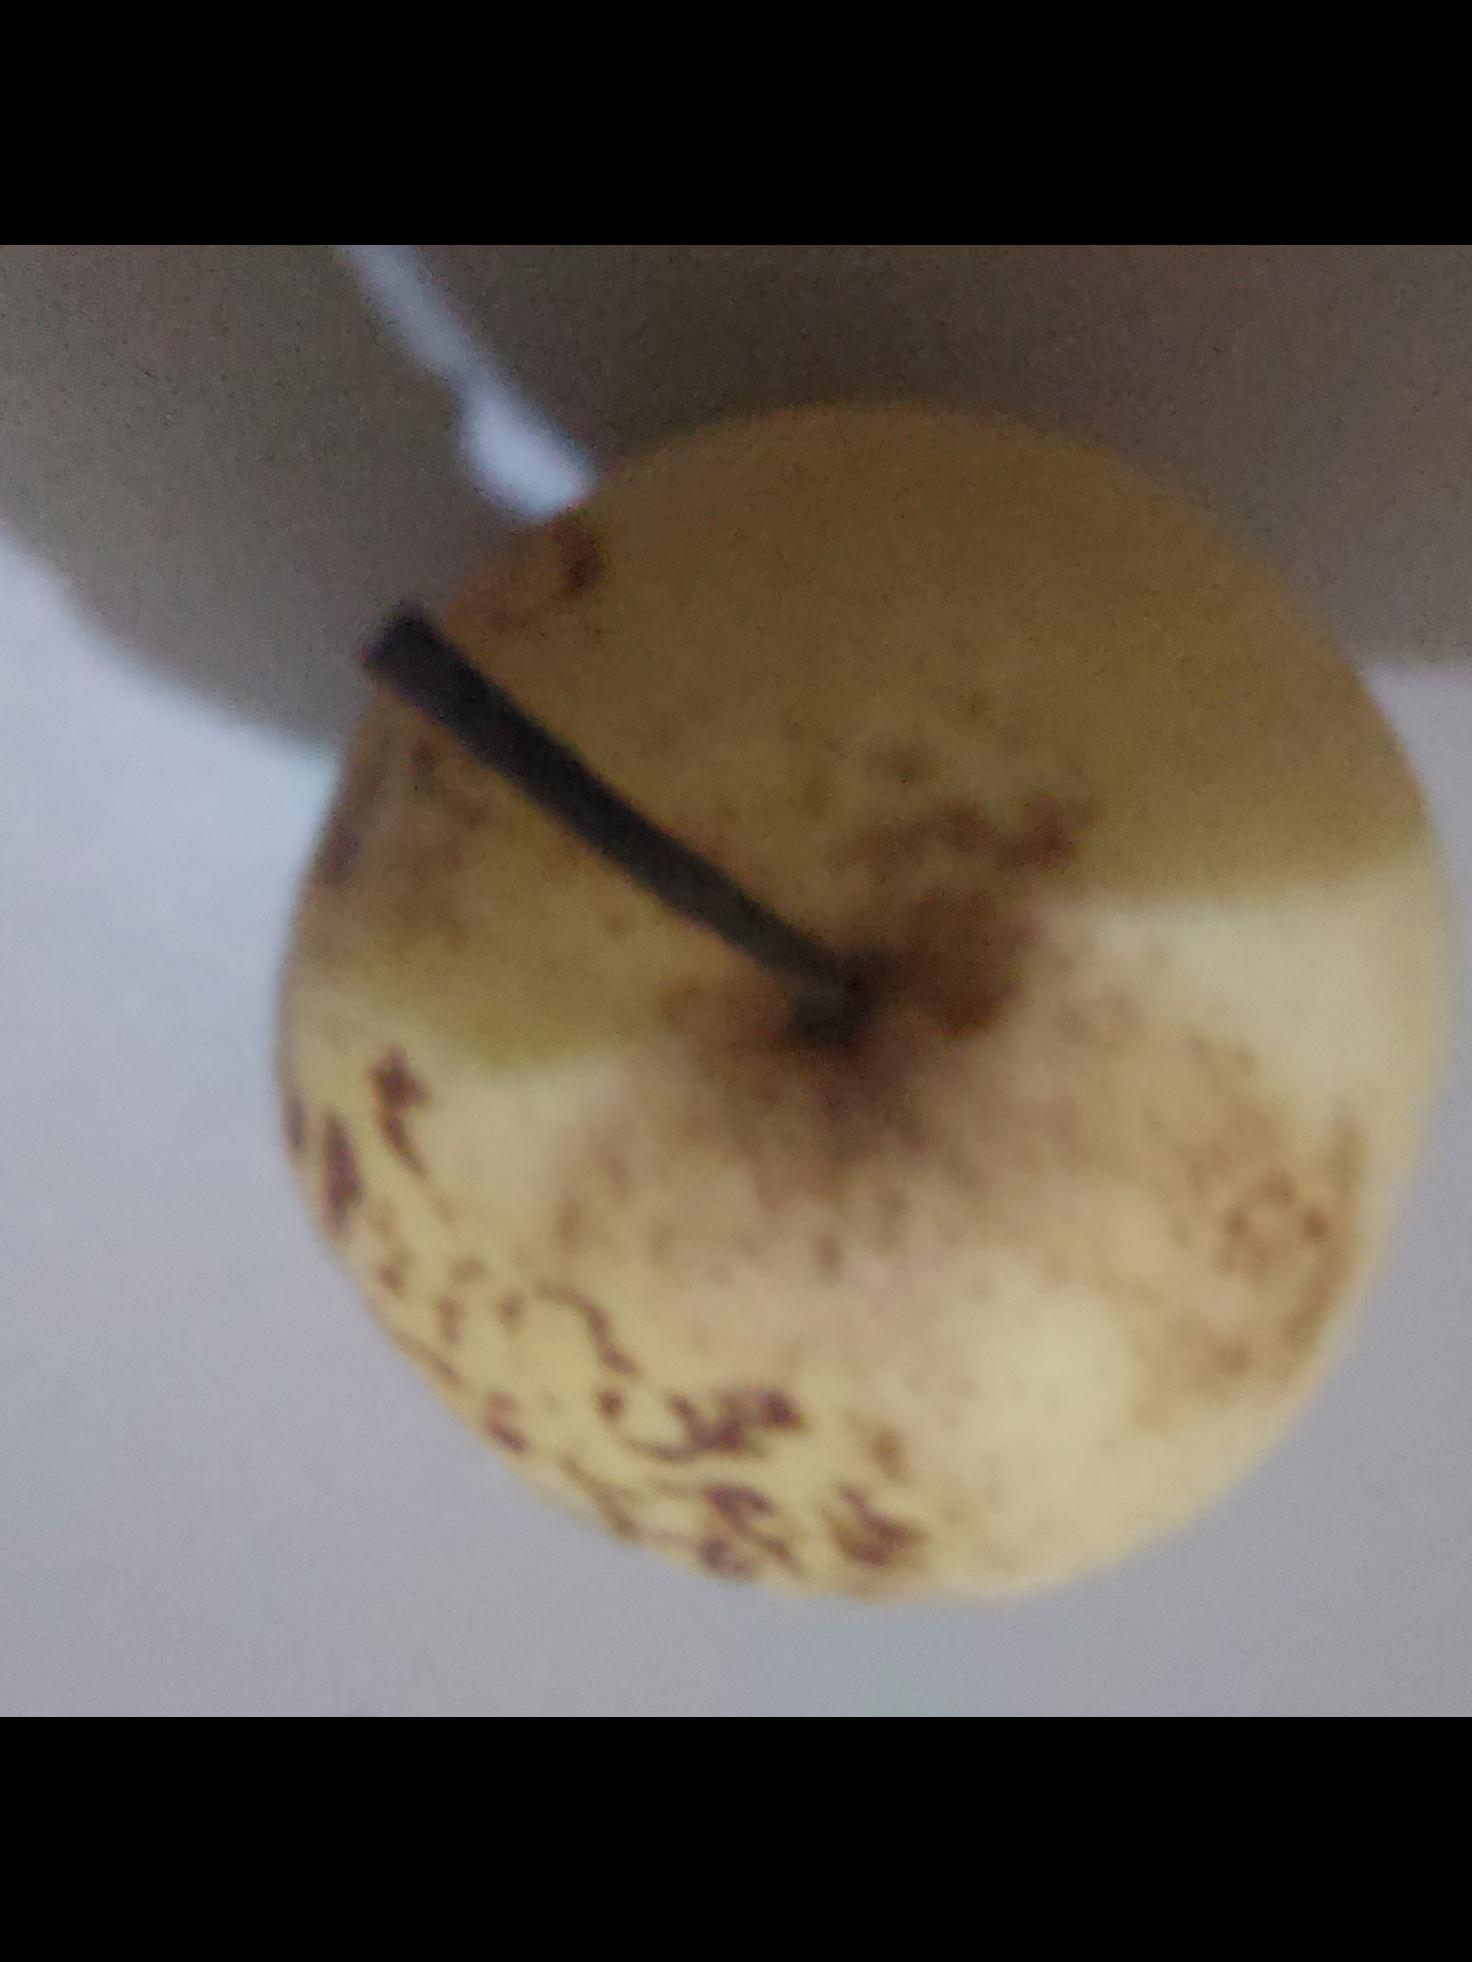Bad Pear: (272, 408, 1412, 1597)
